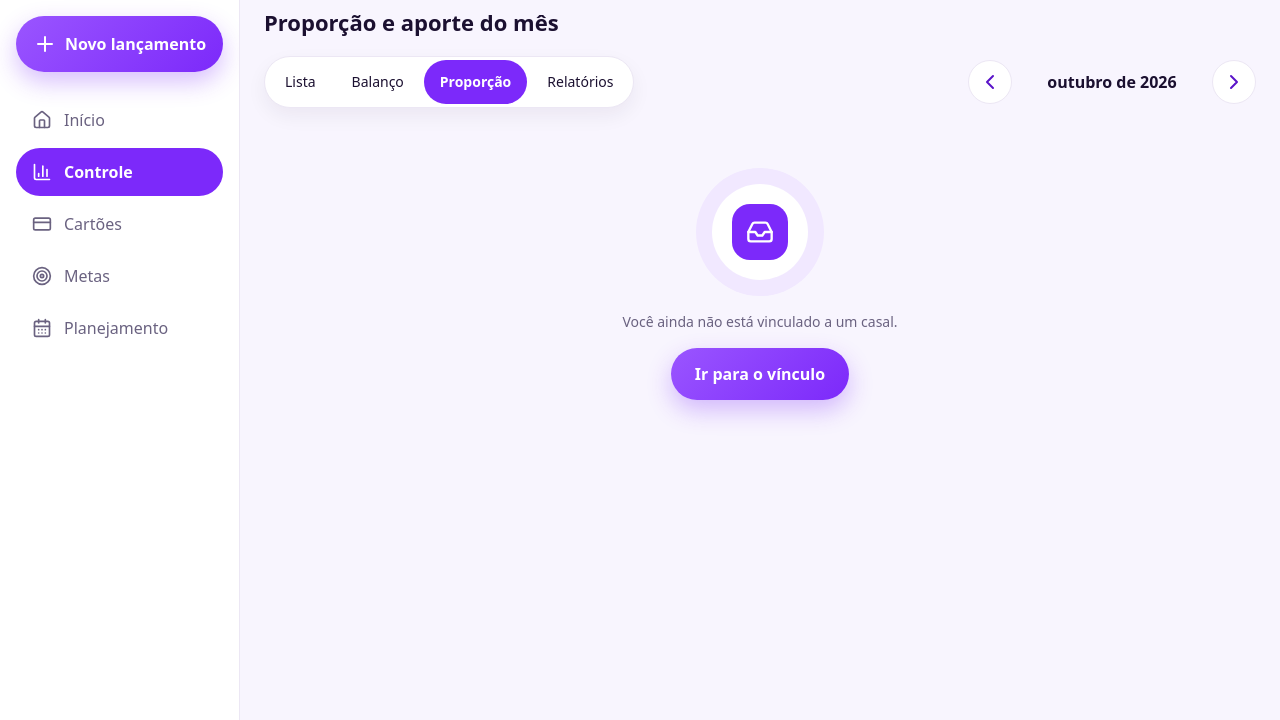
Test: erros da consulta (4xx não repete) › sem vínculo mostra o estado vazio com ação para o vínculo e consulta uma vez só
Expected: the text "Você ainda não está vinculado a um casal." is shown, [622,312,898,332]
Click the button "Ir para o vínculo": (760, 374) [671,348,849,400]
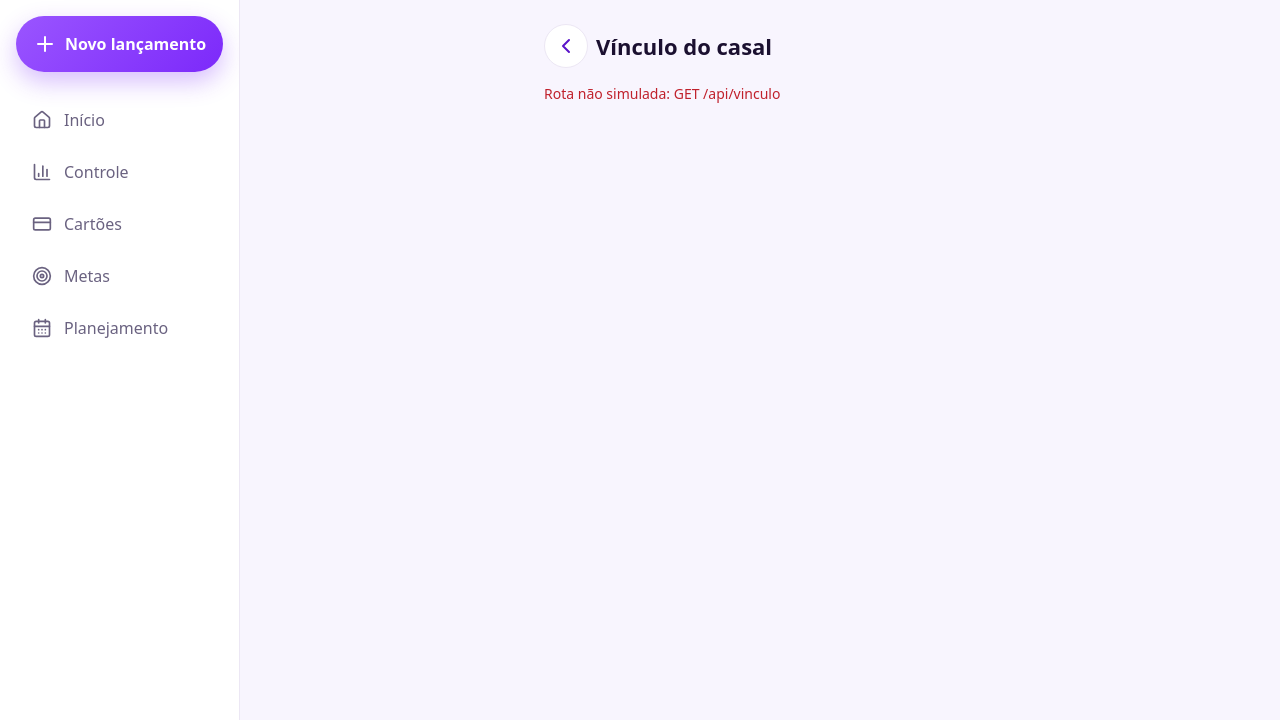
Result: the text "Você ainda não está vinculado a um casal." is gone
